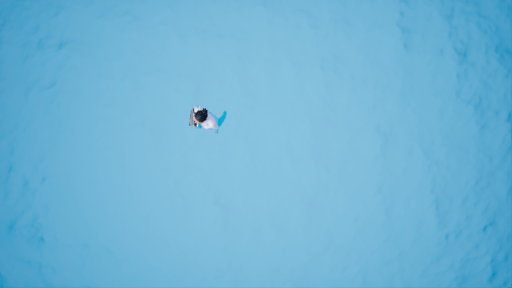person: (186, 100, 230, 133)
